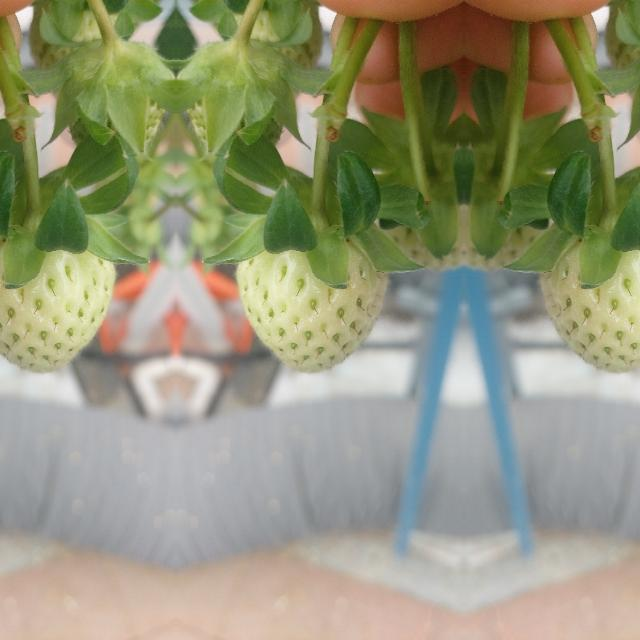Health_25: (235, 238, 387, 372), (0, 238, 115, 372), (539, 238, 640, 372)
